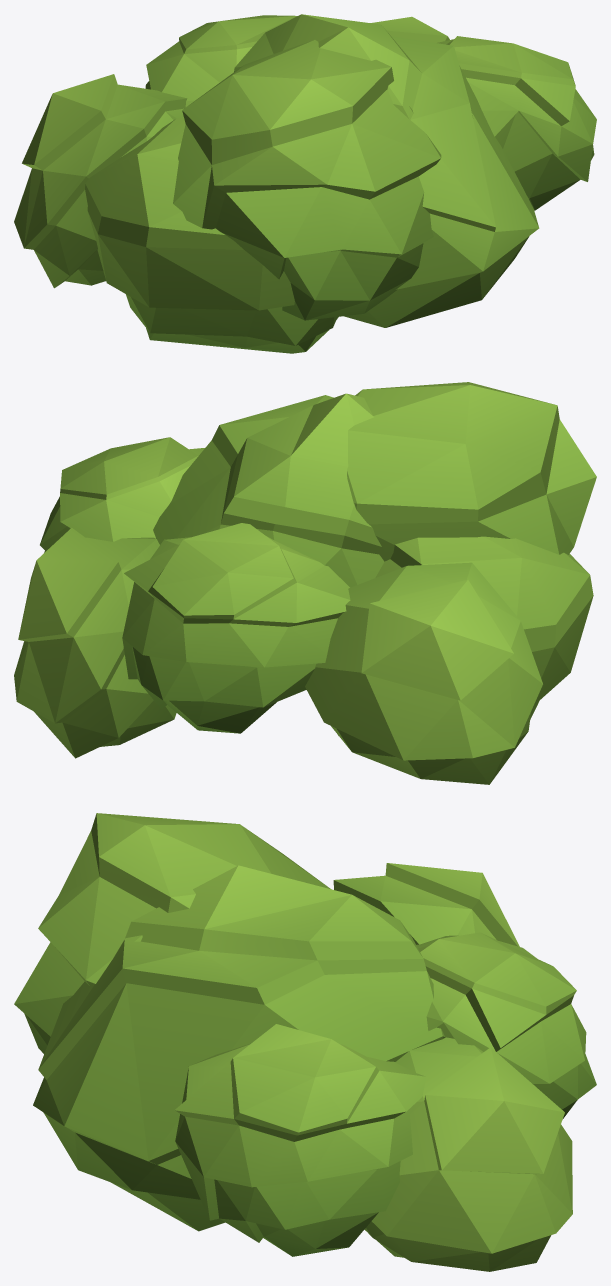
The model's file is SM_BUSH1.fbx.
The picture shows the model from 3 angles, top to bottom: view 1: azimuth 30°, elevation 25°; view 2: azimuth 150°, elevation 25°; view 3: azimuth 270°, elevation 25°; orthographic projection. The views are drawn at different scales.
Parts seen in each view (by area): view 1: BUSH1; view 2: BUSH1; view 3: BUSH1.
Boxes of the visible parts, x1=… form: BUSH1: x1=14, y1=14, x2=596, y2=353; BUSH1: x1=14, y1=382, x2=596, y2=784; BUSH1: x1=14, y1=813, x2=596, y2=1271.
Size of the model in its own units: 358 by 210 by 313.
1 material, 1 textured.
